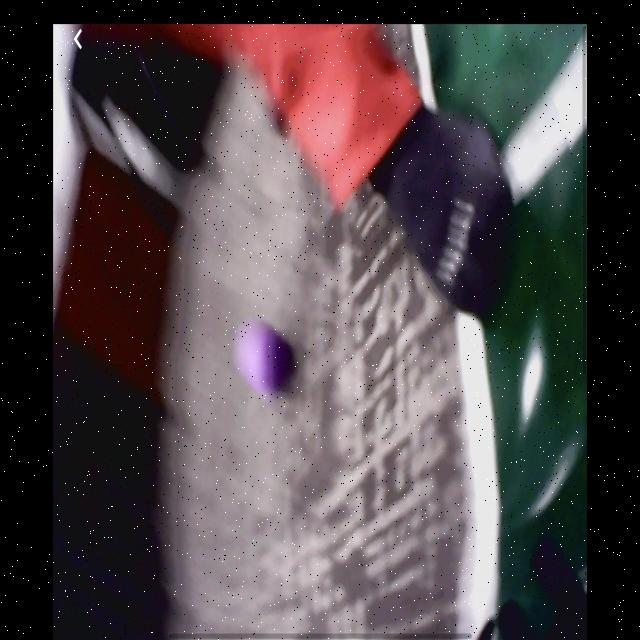ball: (235, 317, 293, 398)
